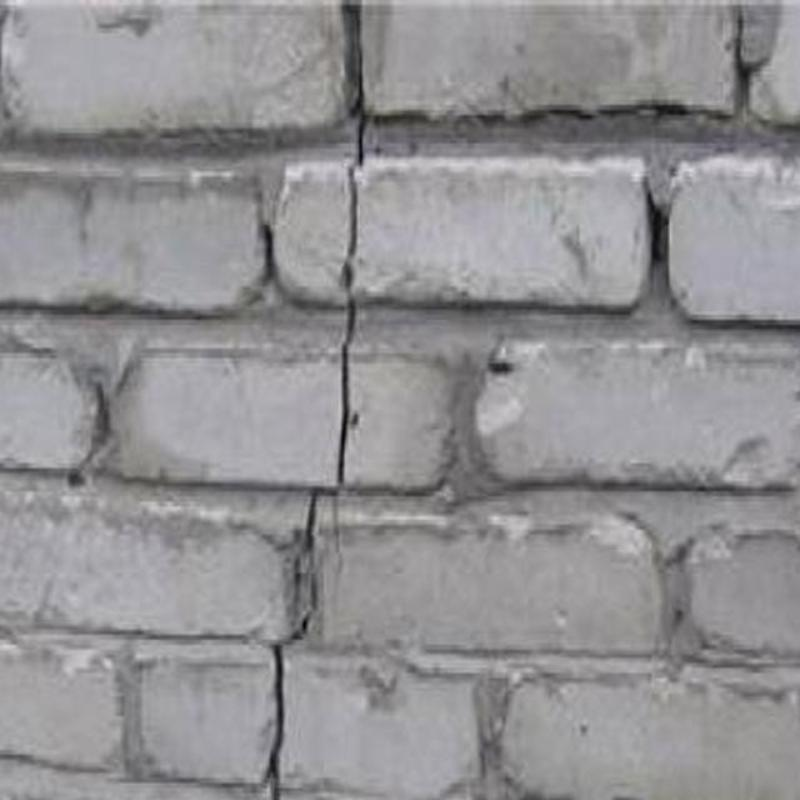pothole: (336, 44, 364, 487), (291, 491, 317, 643), (266, 642, 286, 799), (734, 18, 749, 88), (264, 224, 275, 276), (651, 209, 662, 260)
